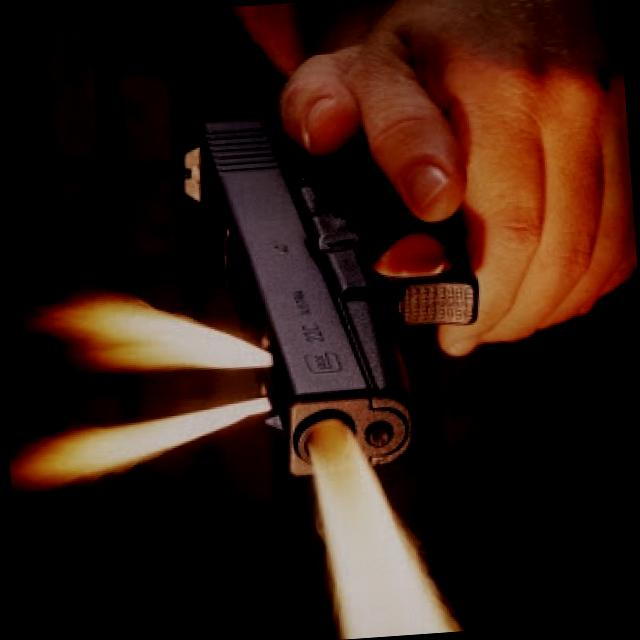handgun: (157, 92, 503, 492)
